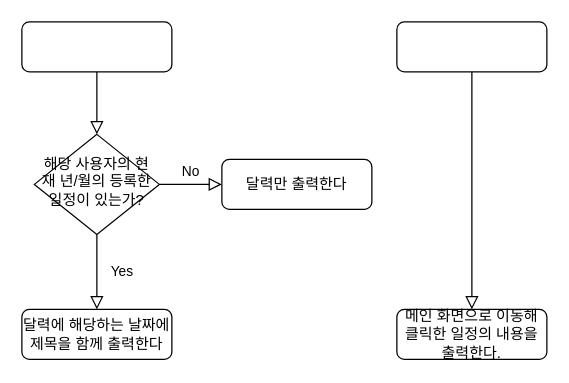
The diagram is 569 pixels wide and 383 high, and some of its shapes have lost their labels. Here are the shapes that lost their labels. From the top down, the centre of each, then its label:
At point (96, 46): "현재 년/월의 달력을 출력한다".
At point (471, 46): "특정 날짜의 일정 제목을 클릭한다.".
